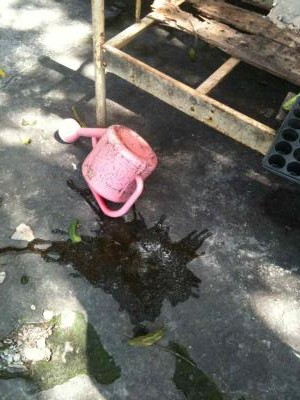bowl: (78, 124, 160, 205)
